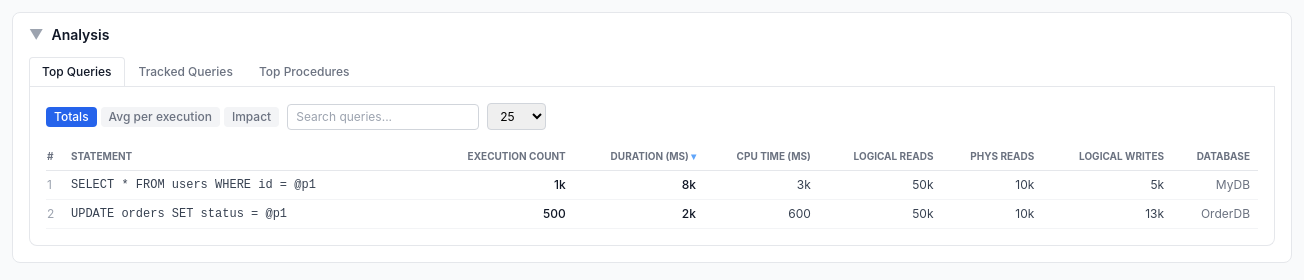
Test case: AnalysisSection › Top Queries: impact mode shows impact dots
Check: the text "SELECT * FROM users WHERE id = @p1" is shown, box [71,178,316,192]
What coordinates should you click on to do the following:
click the button "Impact"
I would click on:
 (252, 116)
Its box is [224,106,279,126].
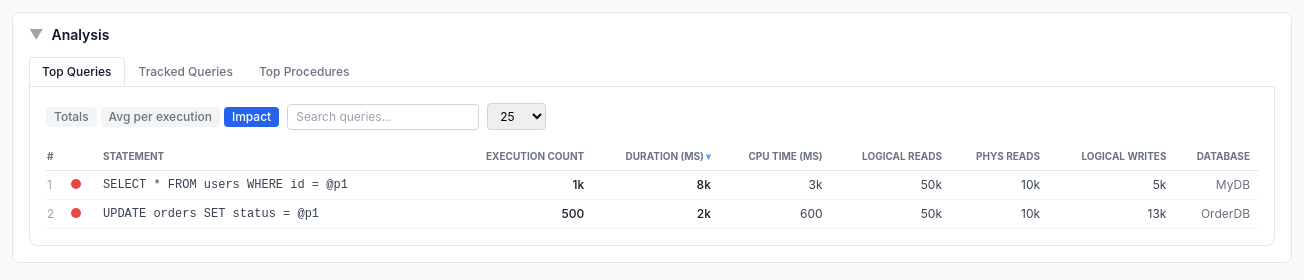
Check: the element named "Impact: 100" is shown, box [71,179,81,189]
